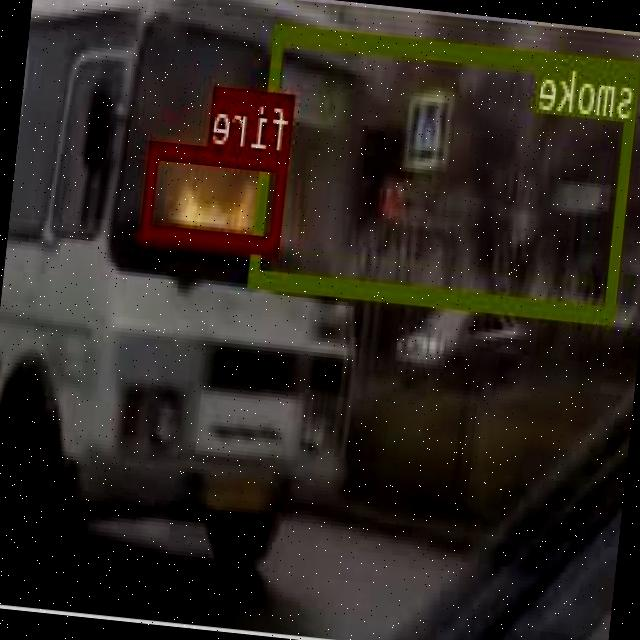fire: (143, 140, 290, 252)
smoke: (250, 21, 640, 322)
